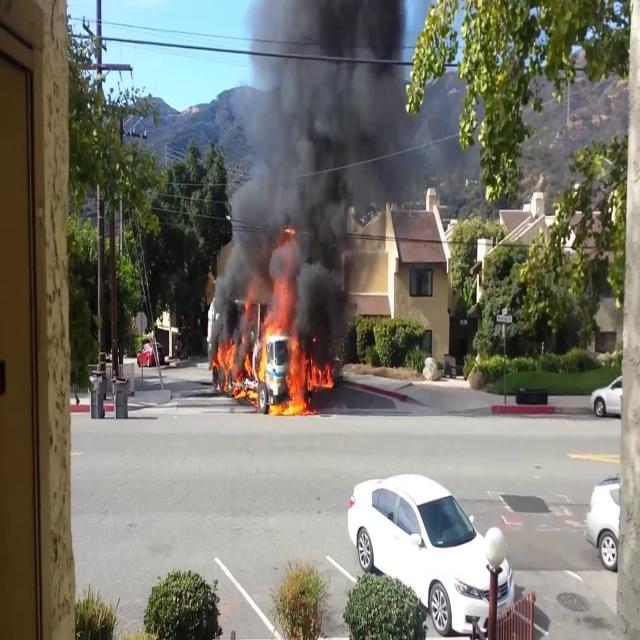Fire: (212, 283, 324, 415)
Smoke: (208, 1, 438, 332)
